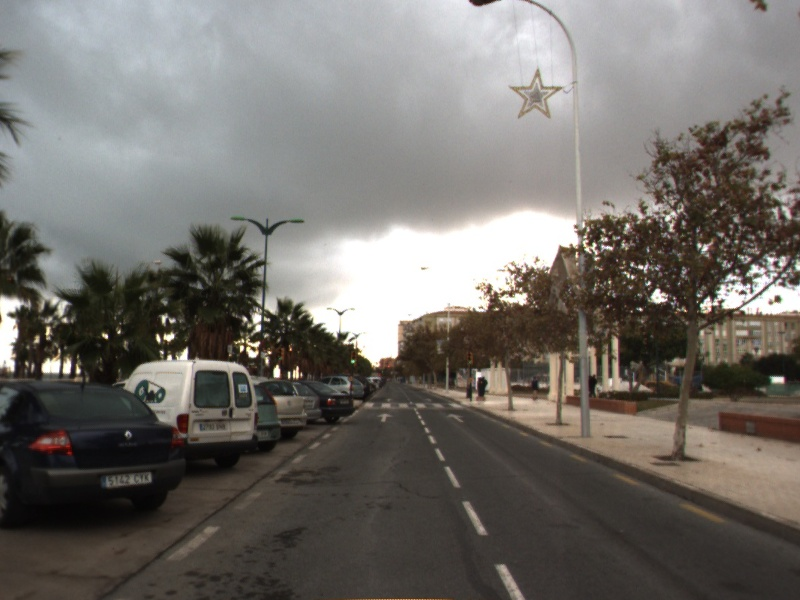STRAIGHT: (444, 412, 467, 424), (375, 411, 396, 424)
